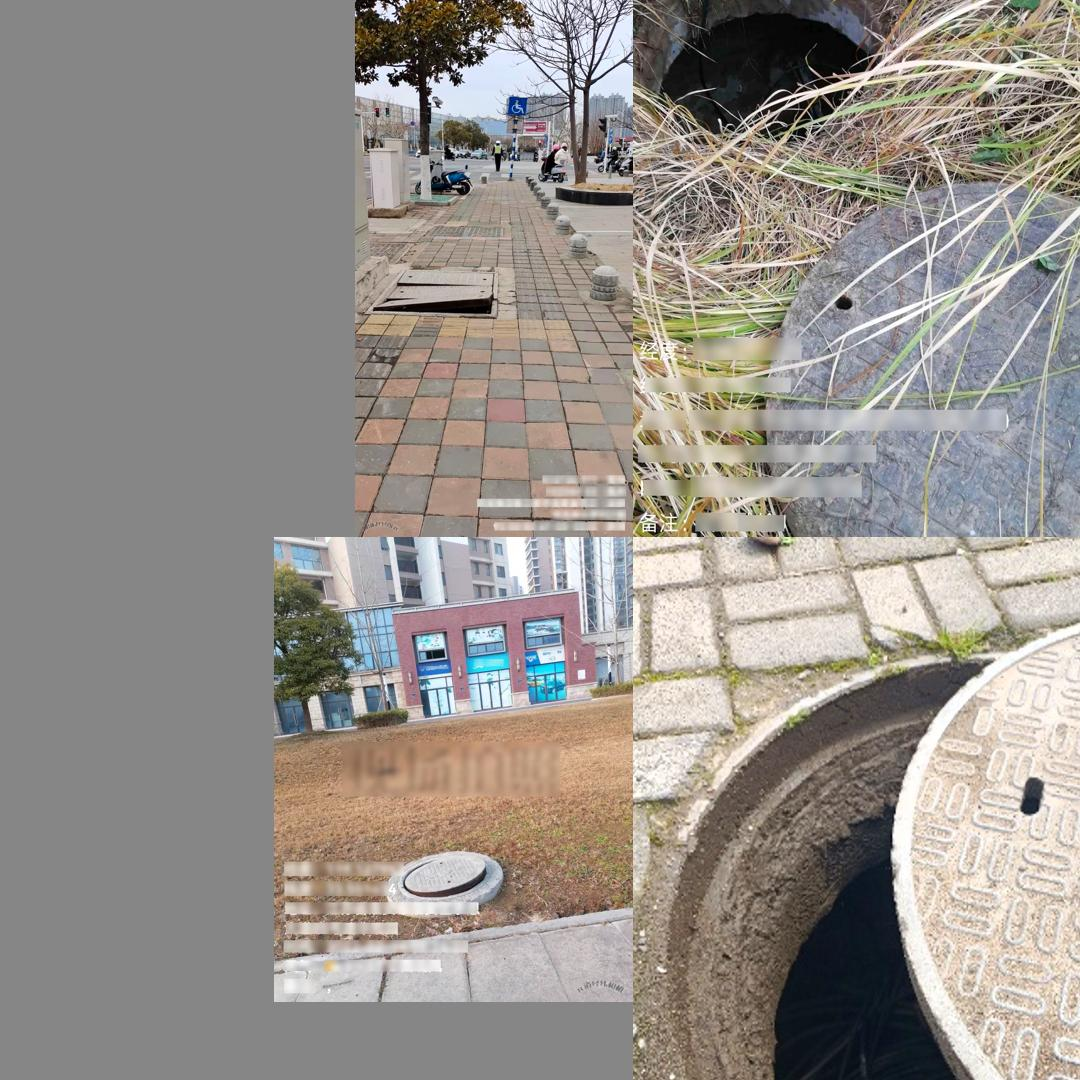good: (420, 222, 507, 240)
uncovered: (664, 622, 1080, 1080), (636, 0, 923, 184), (361, 265, 499, 317), (396, 853, 491, 903)
